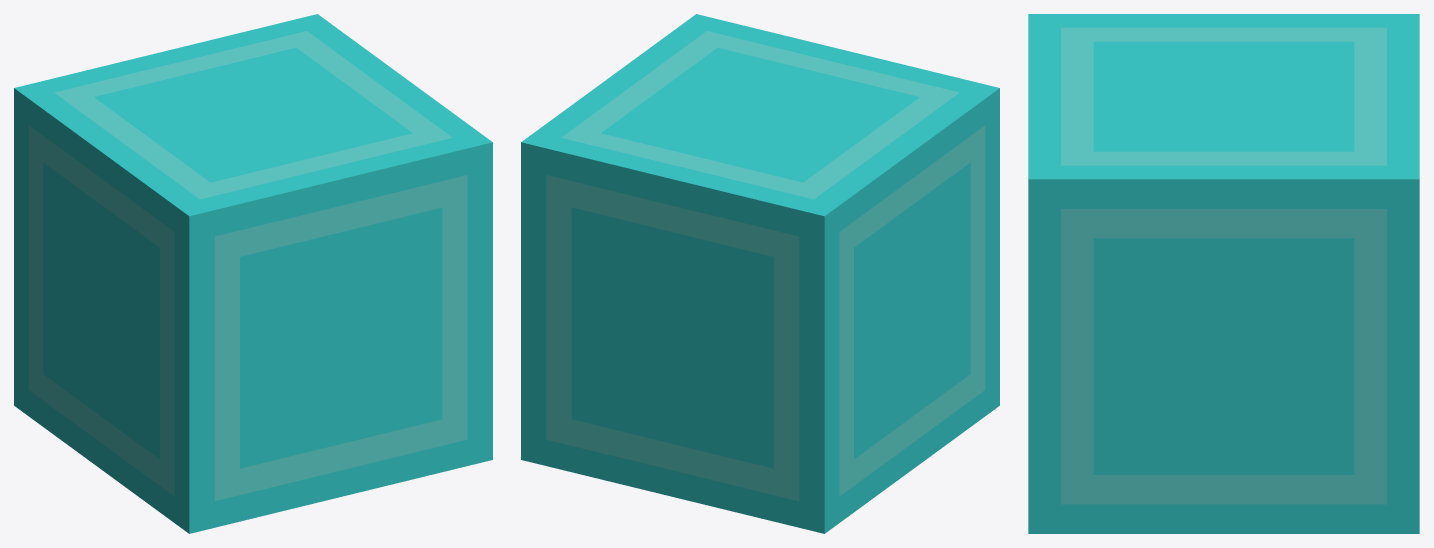
File: Energy Core.fbx
3 renders of one model, left to right at view 1: azimuth 30°, elevation 25°; view 2: azimuth 150°, elevation 25°; view 3: azimuth 270°, elevation 25°, orthographic. The views are drawn at different scales.
Parts seen in each view (by area): view 1: Energy Core; view 2: Energy Core; view 3: Energy Core.
Part boxes in pixels (left/top/right/bottom): Energy Core: left=14, top=14, right=492, bottom=533; Energy Core: left=521, top=14, right=999, bottom=533; Energy Core: left=1028, top=14, right=1419, bottom=533.
Bounding box in the file's own units: 0.24 × 0.24 × 0.24.
1 material, 1 textured.
